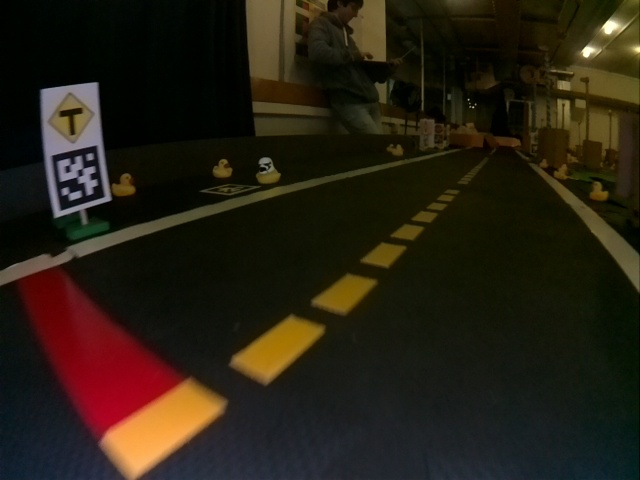Duckie: (256, 159, 281, 183), (114, 173, 136, 197), (214, 159, 232, 178), (589, 182, 608, 200), (556, 170, 569, 180), (540, 158, 548, 167)
Intersection sign: (48, 94, 94, 143)
QR code: (51, 146, 104, 209), (203, 183, 260, 196)
